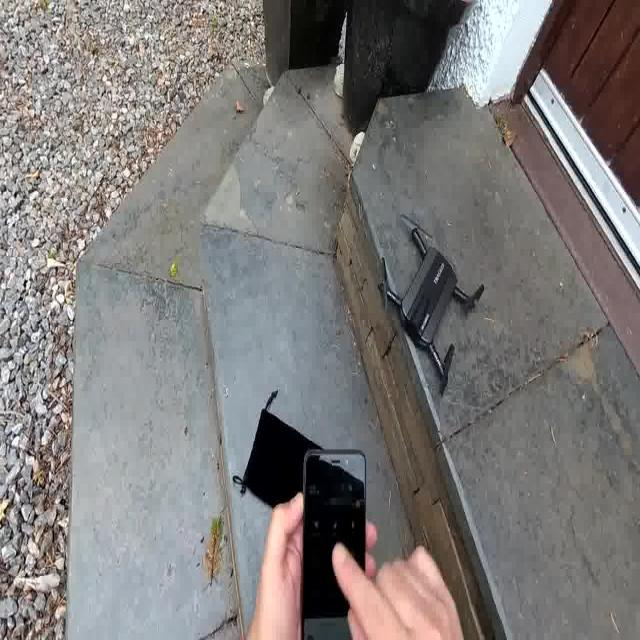drones: (375, 197, 487, 406)
